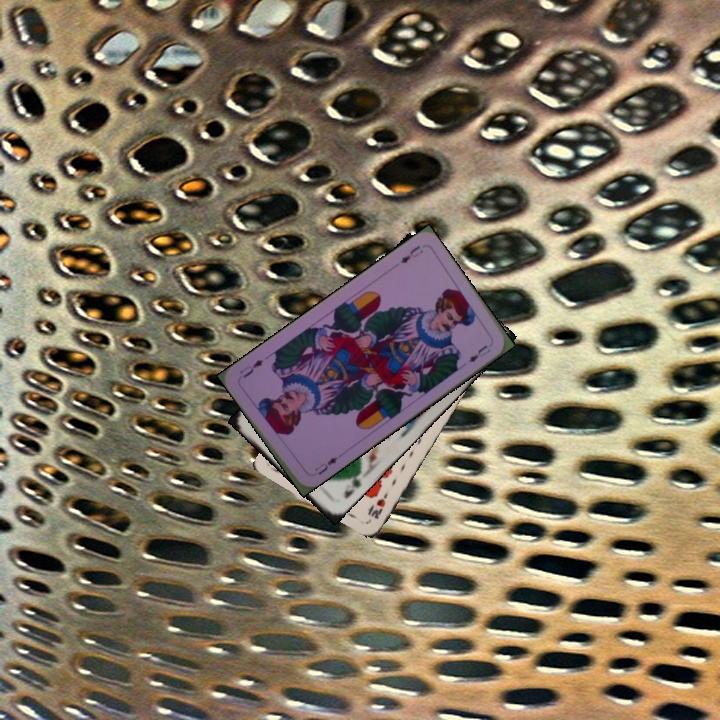EU: (311, 453, 340, 478), (397, 241, 426, 266)
GK: (340, 469, 364, 501)
H10: (365, 488, 391, 522)
